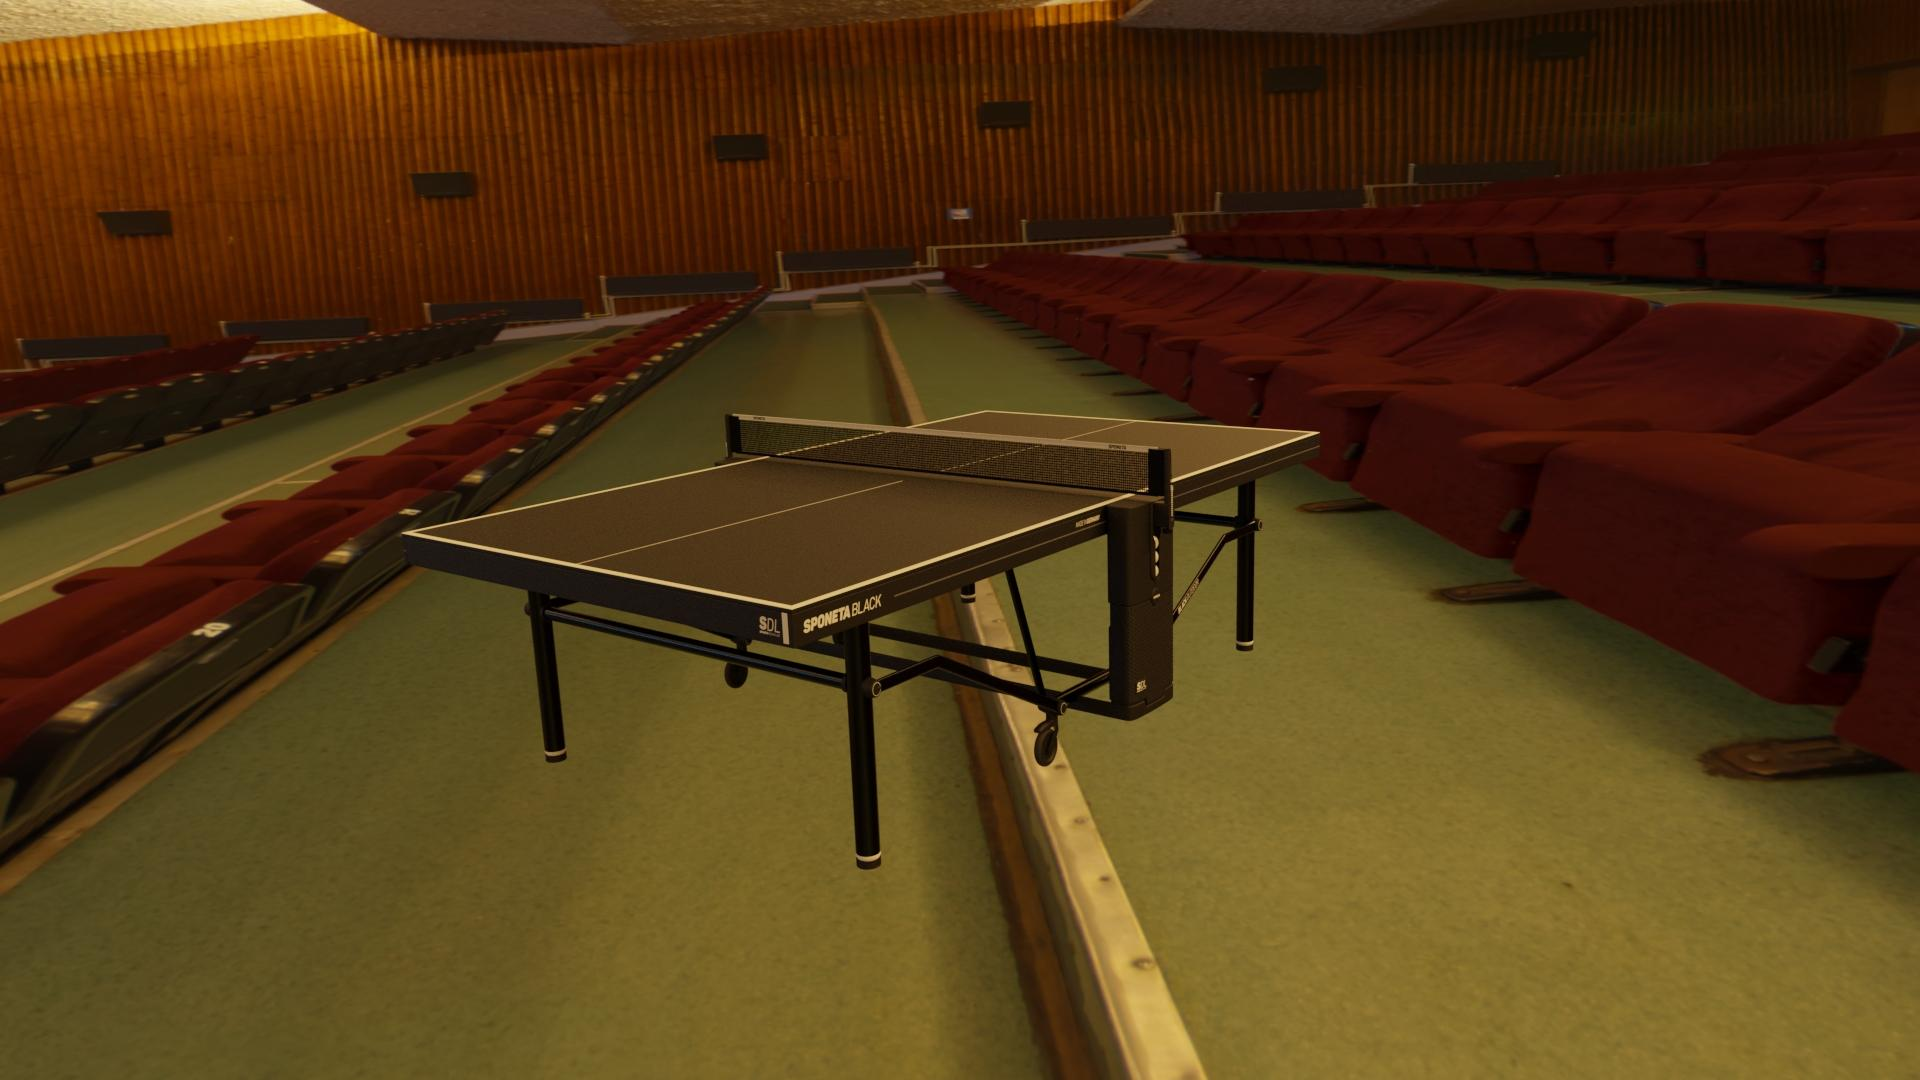table: (411, 411, 1312, 605)
